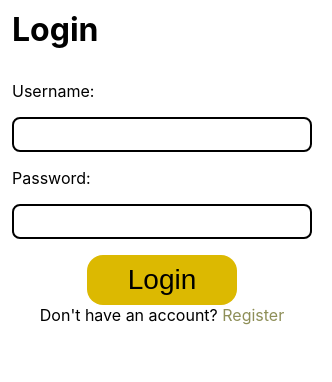
Test: Given a LoginForm component › When it is rendered and the user submits username 'adm' and password 'admin123' › Then a text with '"username" length must be at least 5 characters long' should show on the screen
Type "adm" into the field labelled "Username:" at (162,134), box x1=12 y1=117 x2=312 y2=152
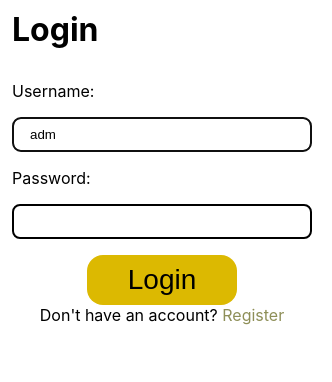
Type "admin123" into the password field labelled "Password:" at (162,222), box x1=12 y1=204 x2=312 y2=239
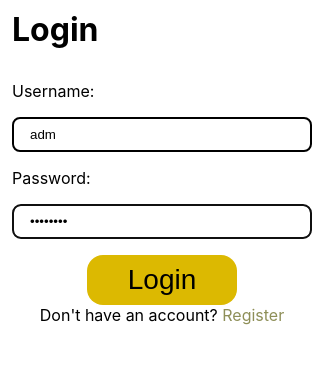
Click the button "Login" at (162,280), box x1=87 y1=255 x2=237 y2=305
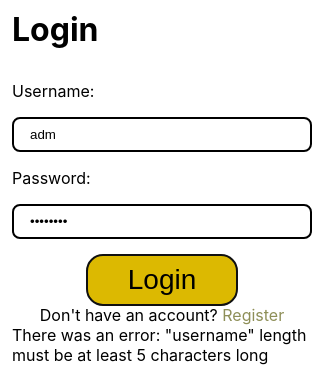
expect the text "\"username\" length must be at least 5 characters long" is shown: met, box x1=12 y1=325 x2=306 y2=365
